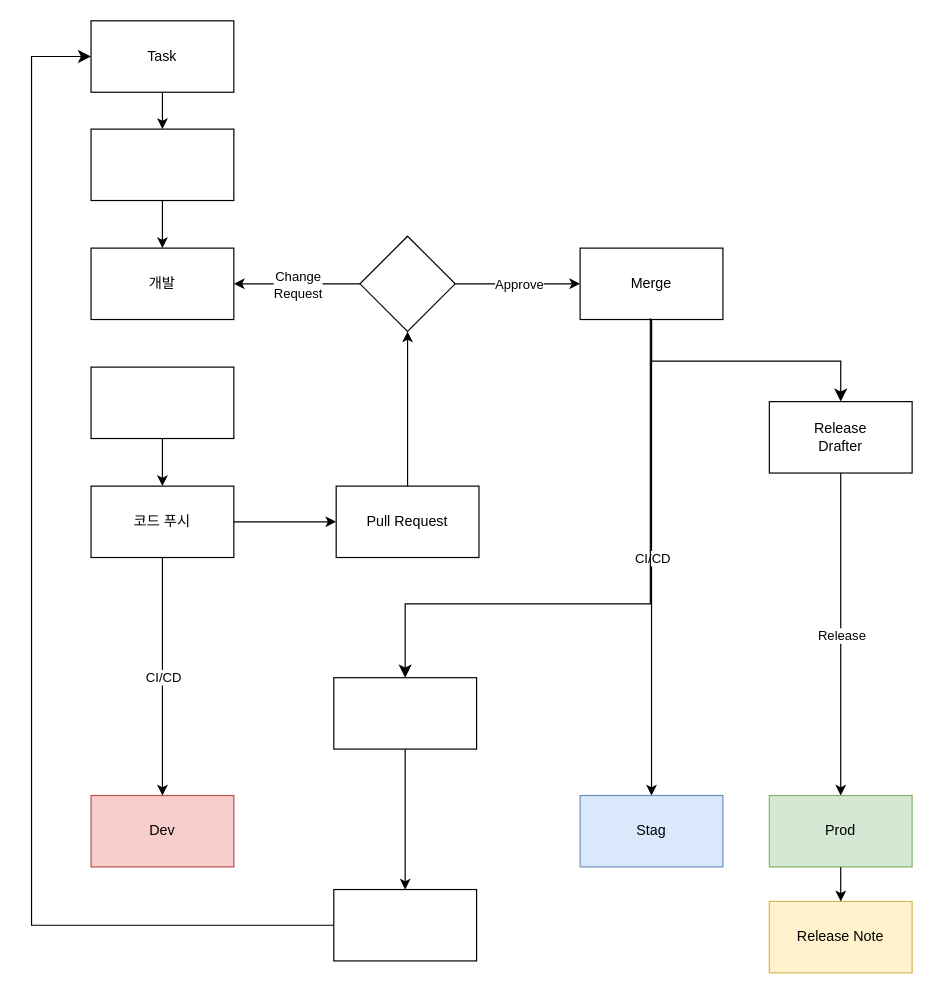
This 933x994 diagram has some shape labels left out. Each missing label, with the centre of its shape:
"Branch 생성" belongs at pixel 162 164.
"Code Review" belongs at pixel 407 283.
"Github Issue" belongs at pixel 405 924.
"To-Do Bot" belongs at pixel 405 713.
"커밋 생성" belongs at pixel 162 402.
